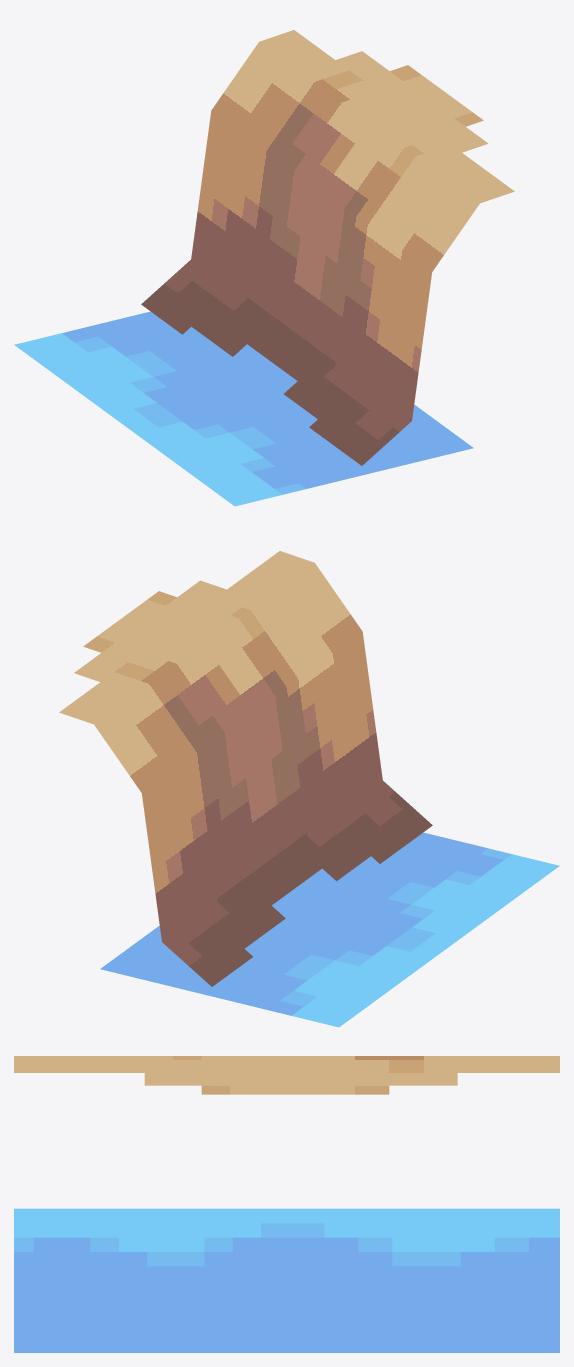
The picture shows the model from 3 angles, top to bottom: view 1: azimuth 30°, elevation 25°; view 2: azimuth 150°, elevation 25°; view 3: azimuth 270°, elevation 25°; orthographic projection. The views are drawn at different scales.
Size of the model in its own units: 0.8496 by 0.627 by 1.
Materials: 2 (2 with a texture image).
